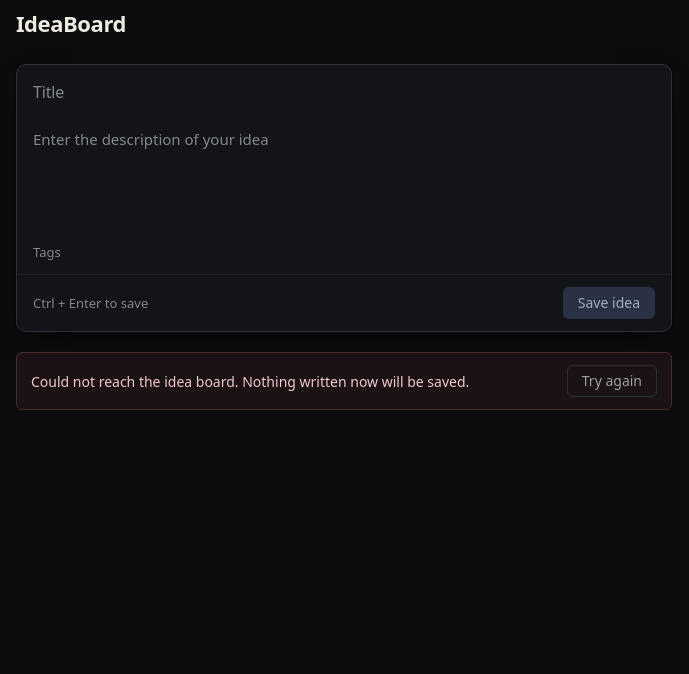
Test case: Create Idea › if the idea is displayed or not
The width and height of the screenshot is (689, 674).
Type "Idea One" into the field with placeholder "Title" at (344, 92), box [17,69,671,115]
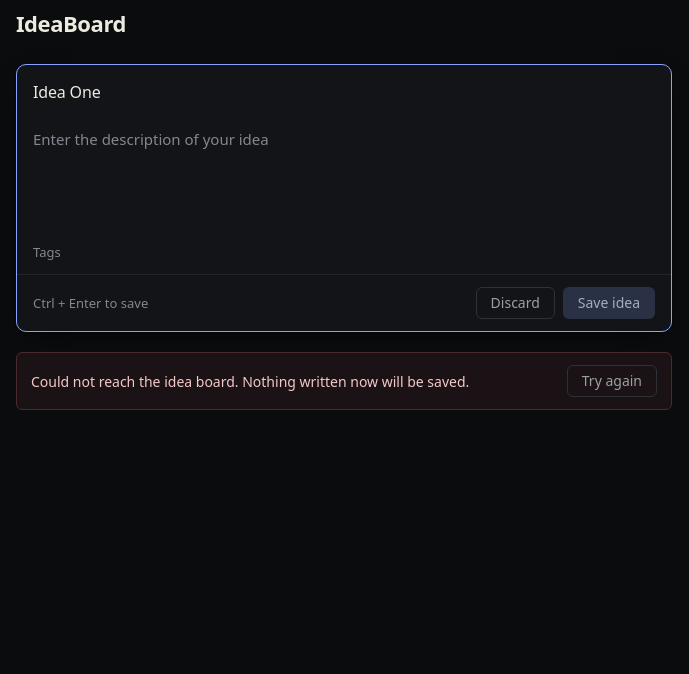
Type "Description of Idea One" into the text box with placeholder "Enter the description of your idea" at (344, 177), box [17,115,671,238]
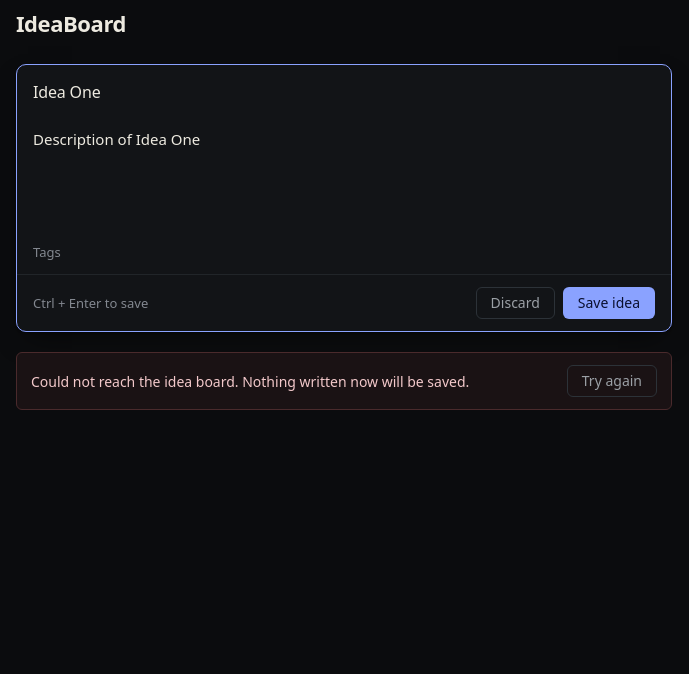
Click the button "Save idea" at (609, 303), box [563,287,655,319]
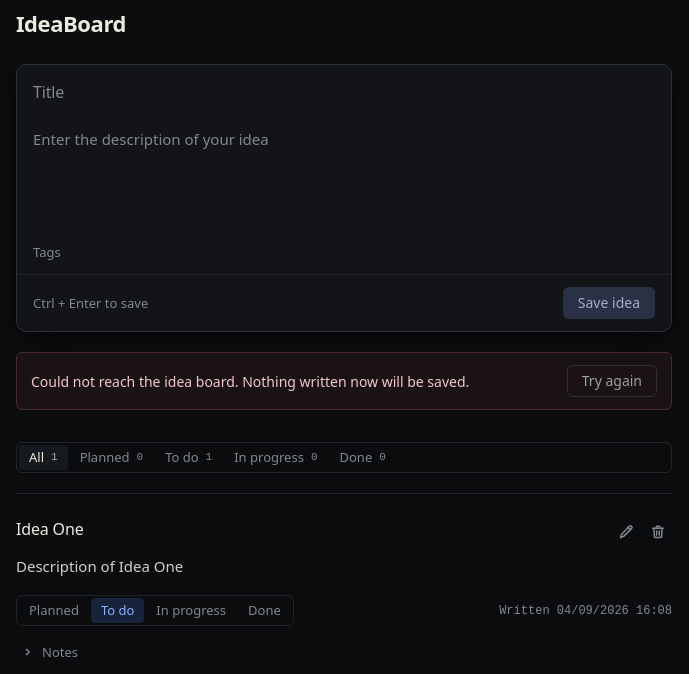
Expected: the text "Idea One" is shown, [16,518,84,541]
Expected: the text "Description of Idea One" is shown, [16,556,183,576]
